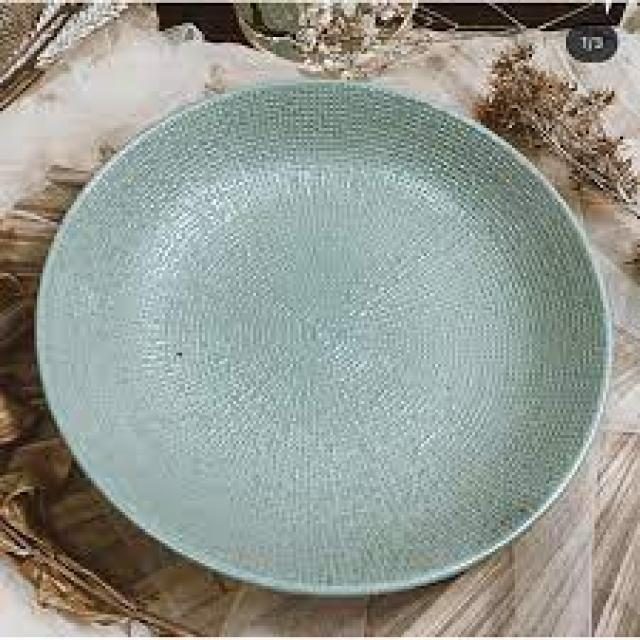Plate: (25, 70, 622, 604)
